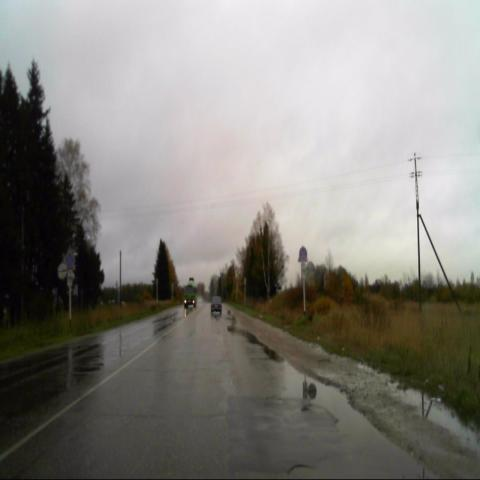3_27: (65, 251, 75, 269), (299, 245, 307, 263)
